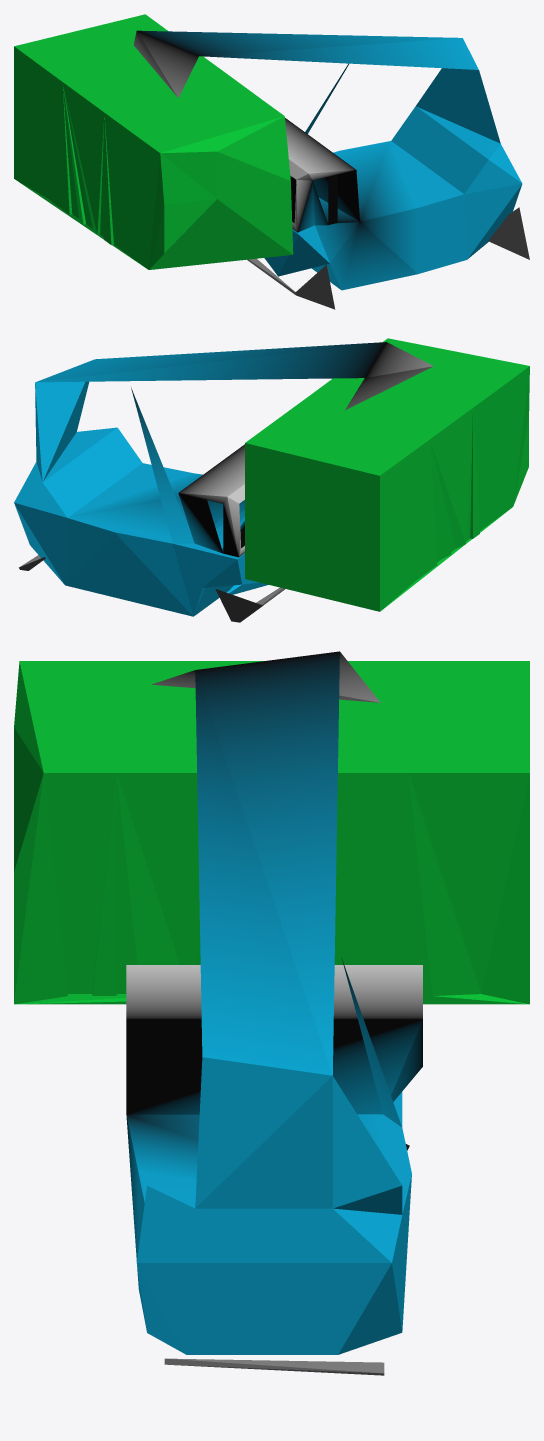
Rendered from reach-stacker.lod2.glb.
3 renders of one model, top to bottom at view 1: azimuth 30°, elevation 25°; view 2: azimuth 150°, elevation 25°; view 3: azimuth 270°, elevation 25°, orthographic. The views are drawn at different scales.
Visible parts, largest first — view 1: Cube_Material_0; view 2: Cube_Material_0; view 3: Cube_Material_0.
Part boxes in pixels (x1=…): Cube_Material_0: x1=14, y1=14, x2=529, y2=309; Cube_Material_0: x1=14, y1=338, x2=529, y2=622; Cube_Material_0: x1=14, y1=651, x2=529, y2=1375.
Size of the model in its own units: 11.73 by 7.53 by 7.29.
